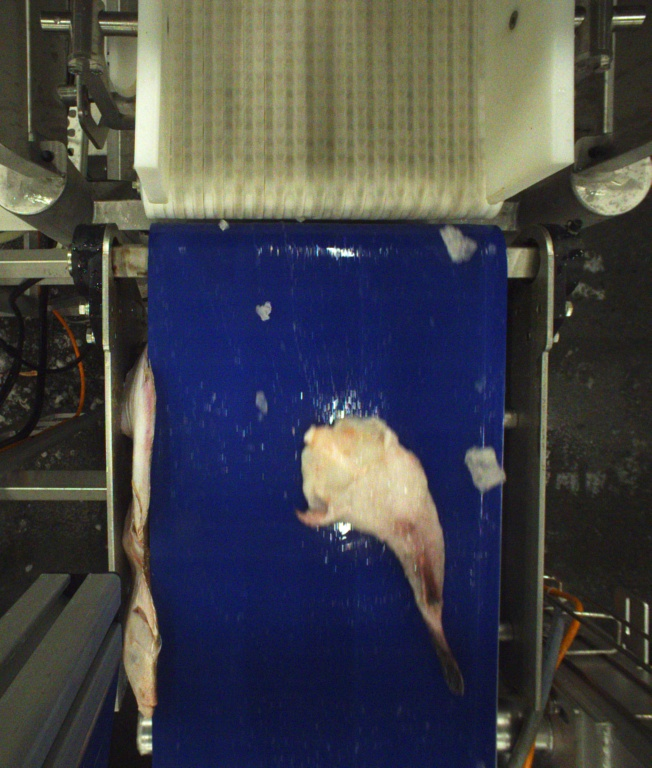ANF: (296, 417, 467, 701)
